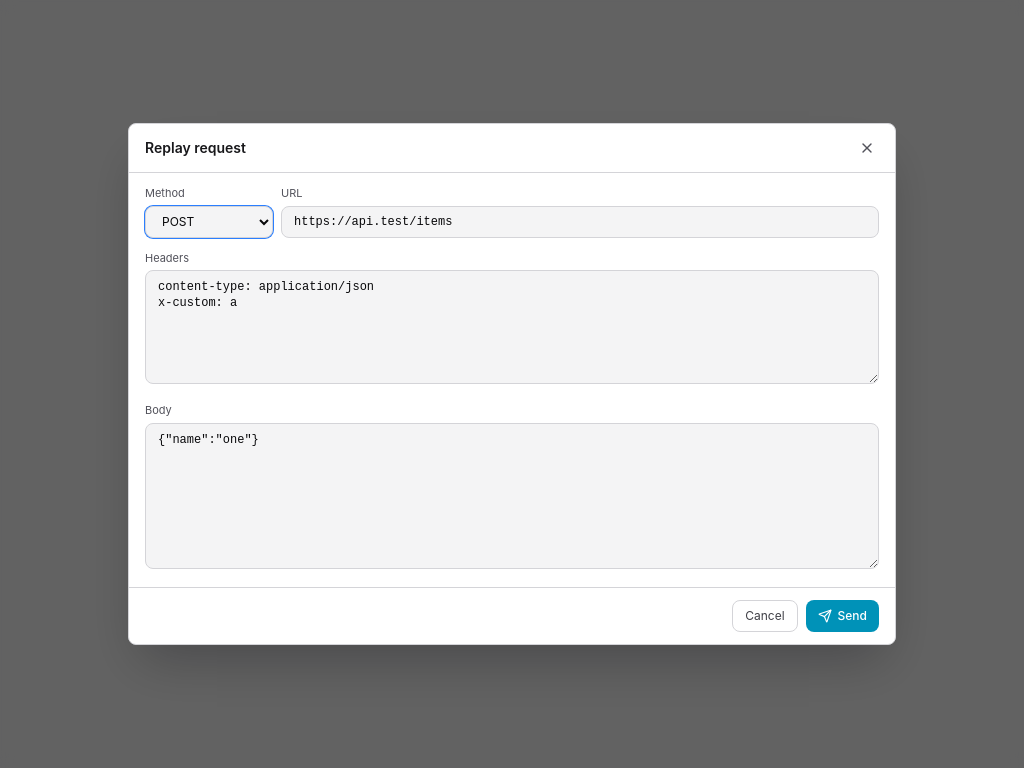
ReplayDialog › shows the failure of a replay
Expected: the field labelled "URL" is shown, [281,206,879,238]
Click the button "Send".
click(842, 616)  # box [806,600,879,632]
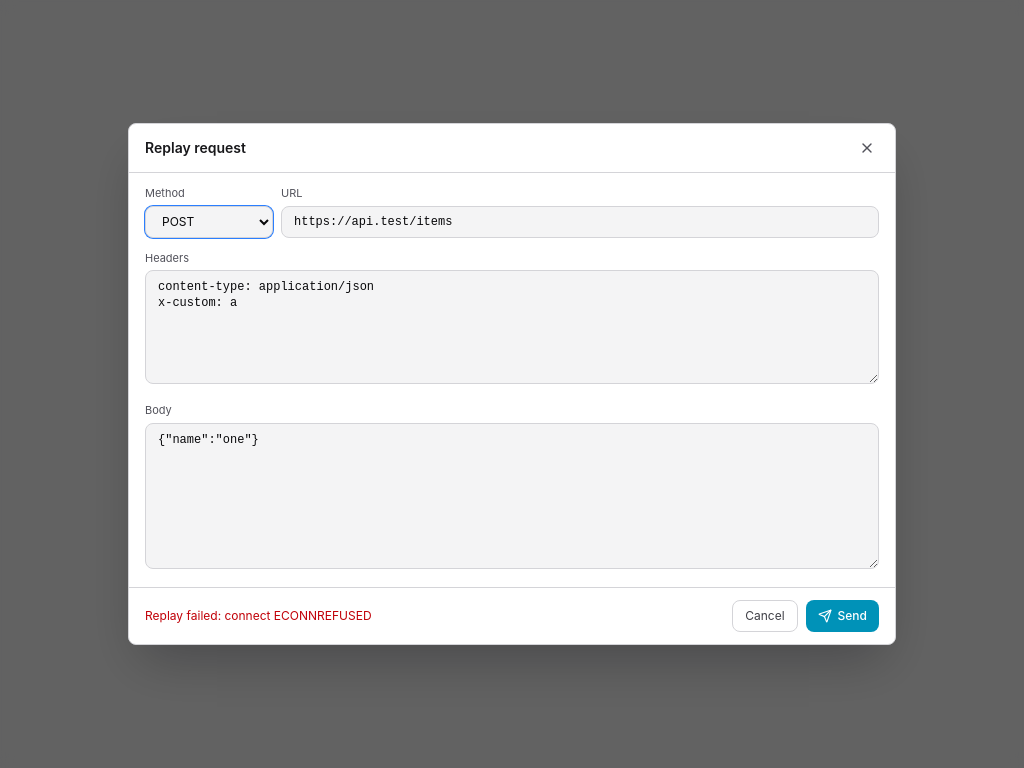
Expected: the text "Replay failed: connect ECONNREFUSED" is shown, [145,608,372,623]
